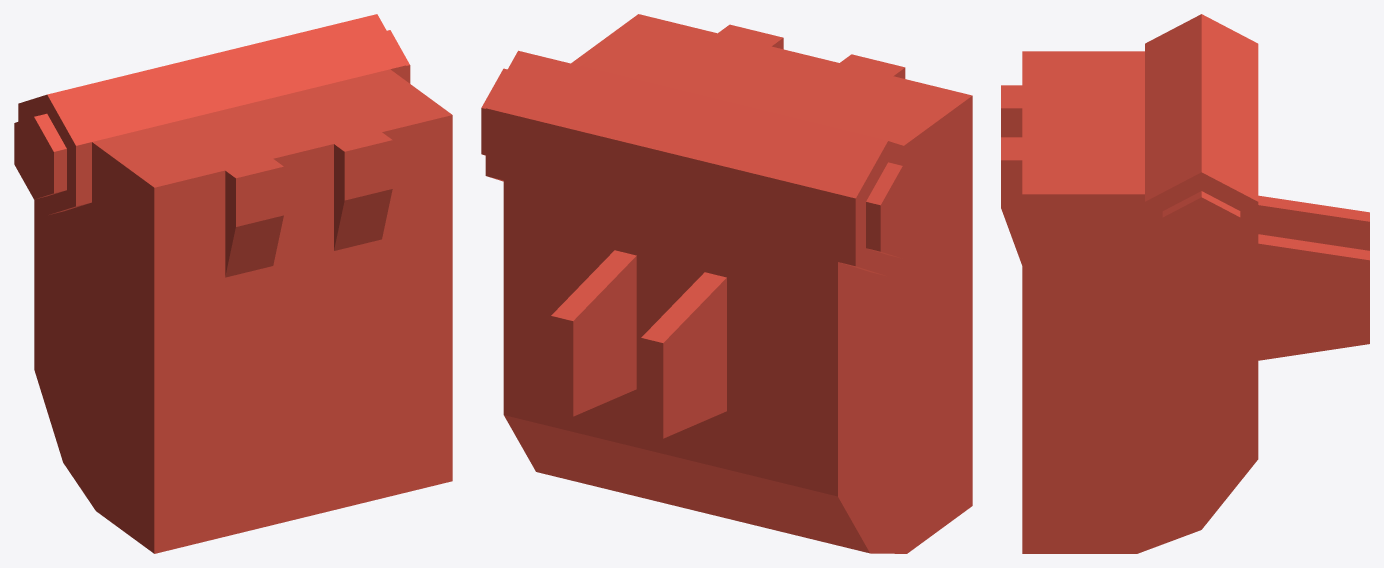
Rendered from SM_Telehandler_Arm_End.fbx.
3 renders of one model, left to right at view 1: azimuth 30°, elevation 25°; view 2: azimuth 150°, elevation 25°; view 3: azimuth 270°, elevation 25°, orthographic. The views are drawn at different scales.
Visible parts, largest first — view 1: SM_Telehandler_Arm_End; view 2: SM_Telehandler_Arm_End; view 3: SM_Telehandler_Arm_End.
Boxes of the visible parts, bbox=[...] form: SM_Telehandler_Arm_End: bbox=[14, 14, 452, 553]; SM_Telehandler_Arm_End: bbox=[481, 14, 972, 553]; SM_Telehandler_Arm_End: bbox=[1001, 14, 1369, 553].
Size of the model in its own units: 38.38 by 42.06 by 44.72.
